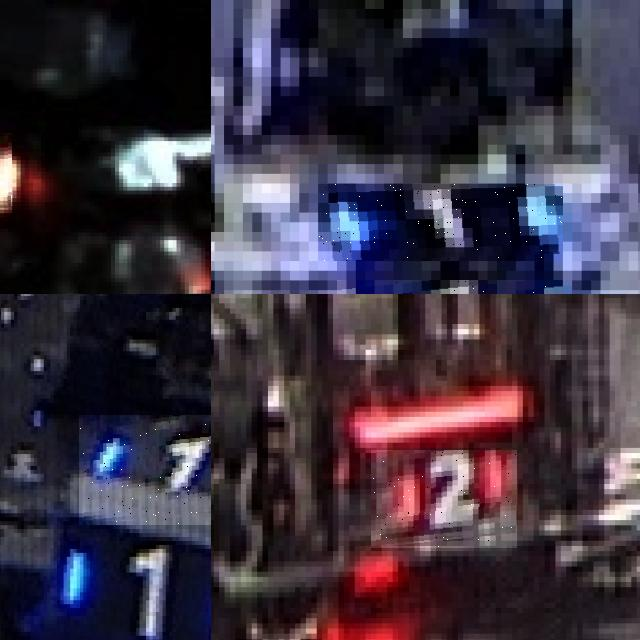B1: (35, 521, 211, 640), (318, 184, 563, 261), (78, 414, 211, 525)
R2: (371, 451, 517, 548)
Rs: (0, 133, 12, 213)
